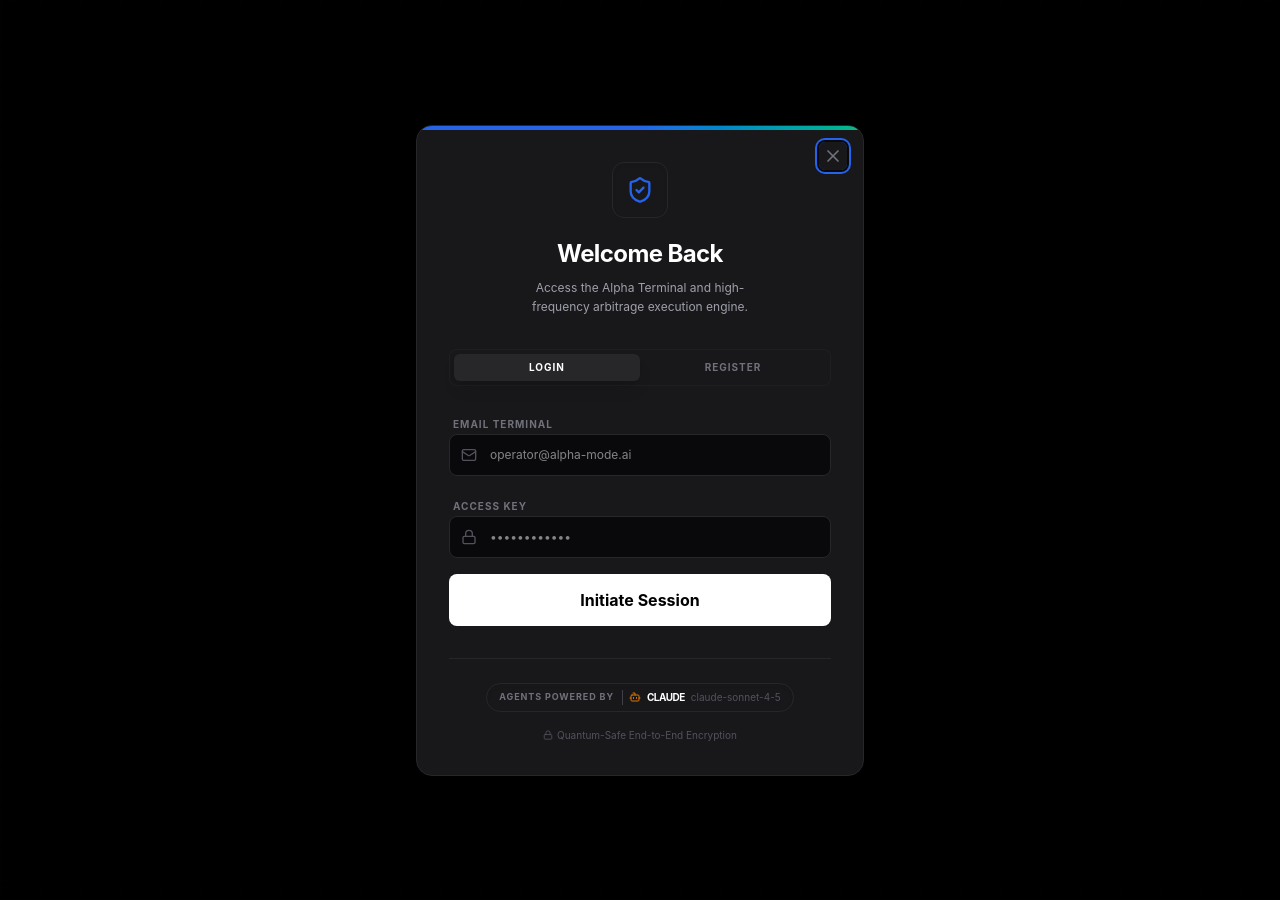
Test: AuthModal Integration › shows error message on 401/failure
The image size is (1280, 900).
Type "bad@example.com" into the field with placeholder "operator@alpha-mode.ai" at (640, 454), box [449,434,831,476]
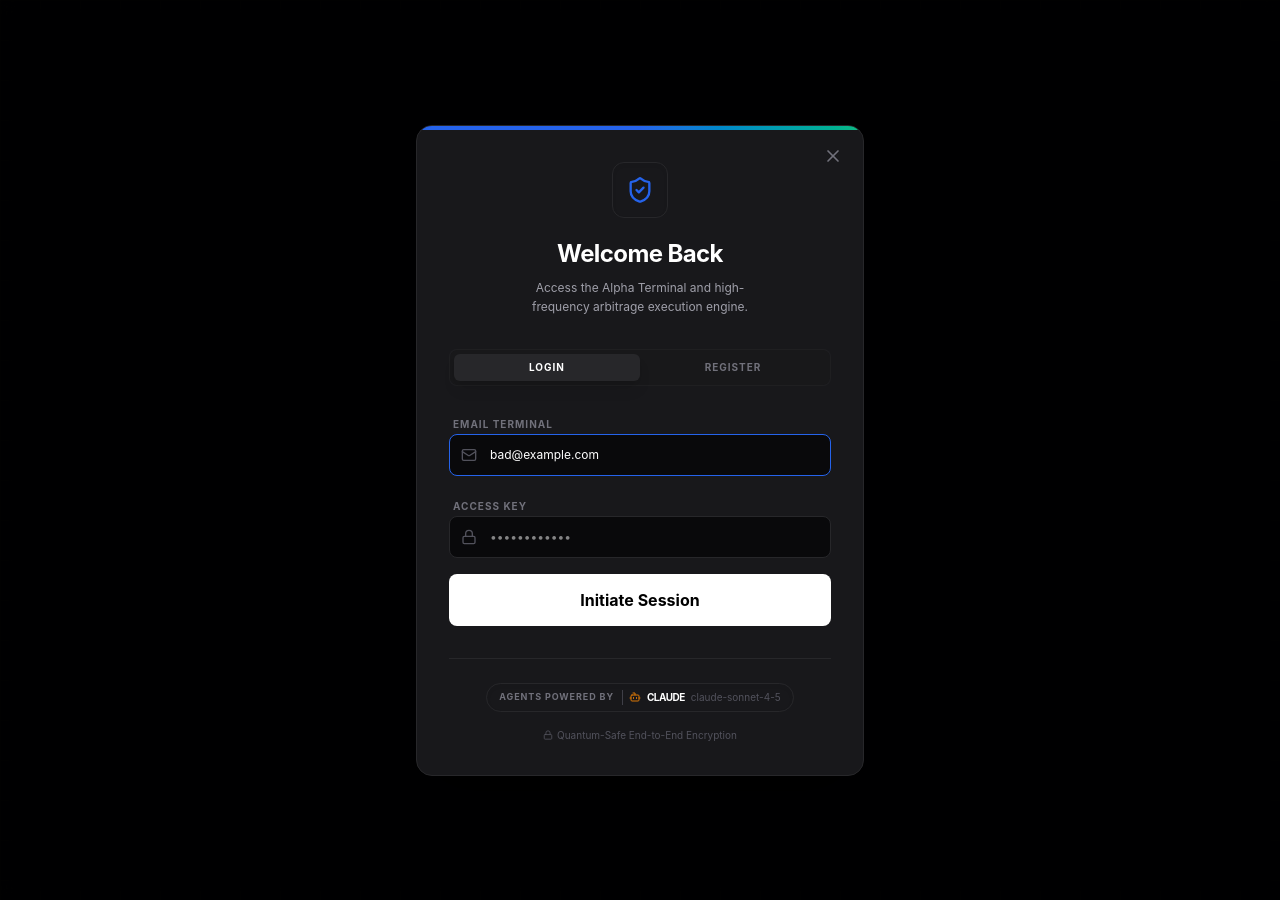
Type "wrongpassword" into the password field with placeholder "••••••••••••" at (640, 536), box [449,516,831,558]
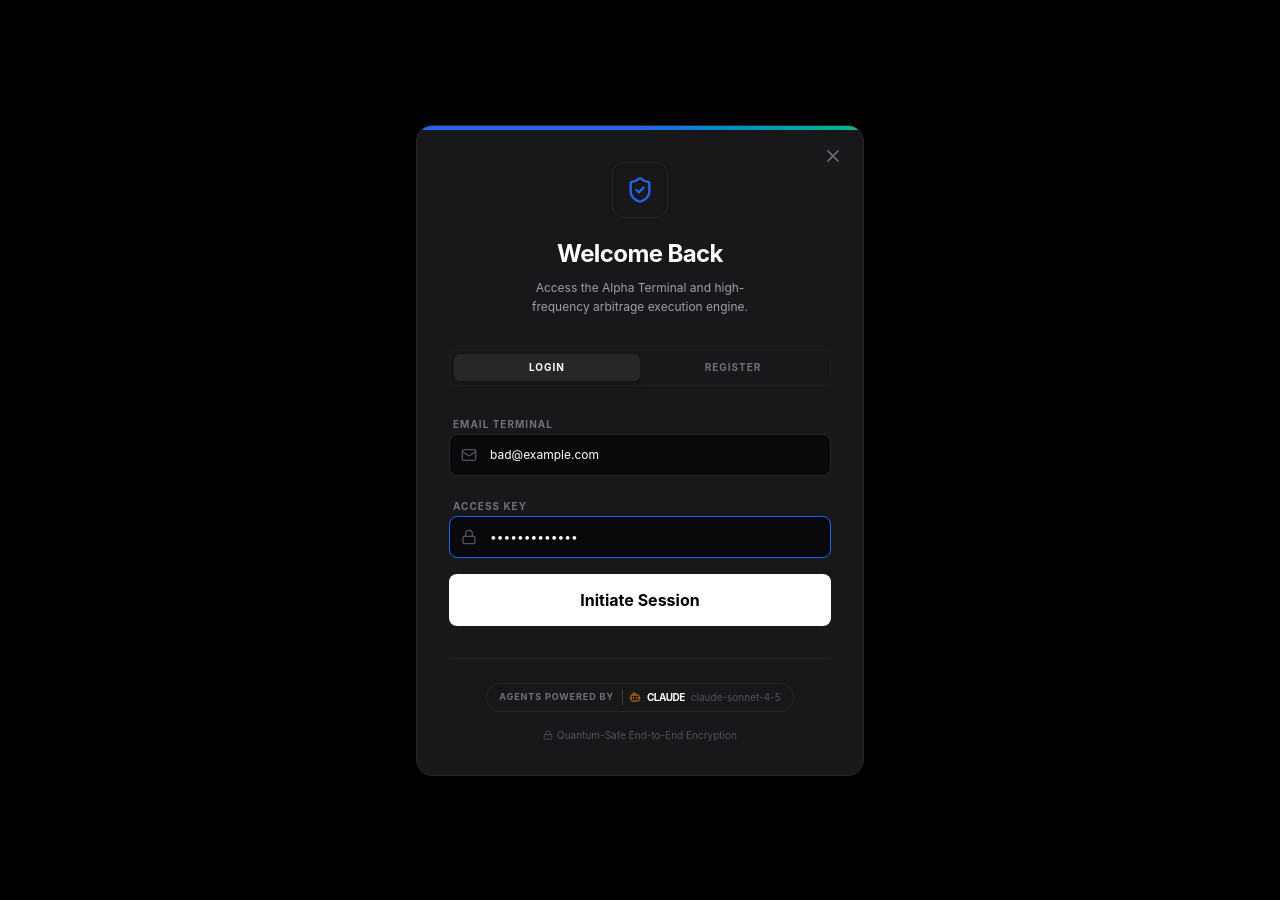
Click the button "Initiate Session" at (640, 600), box [449,574,831,626]
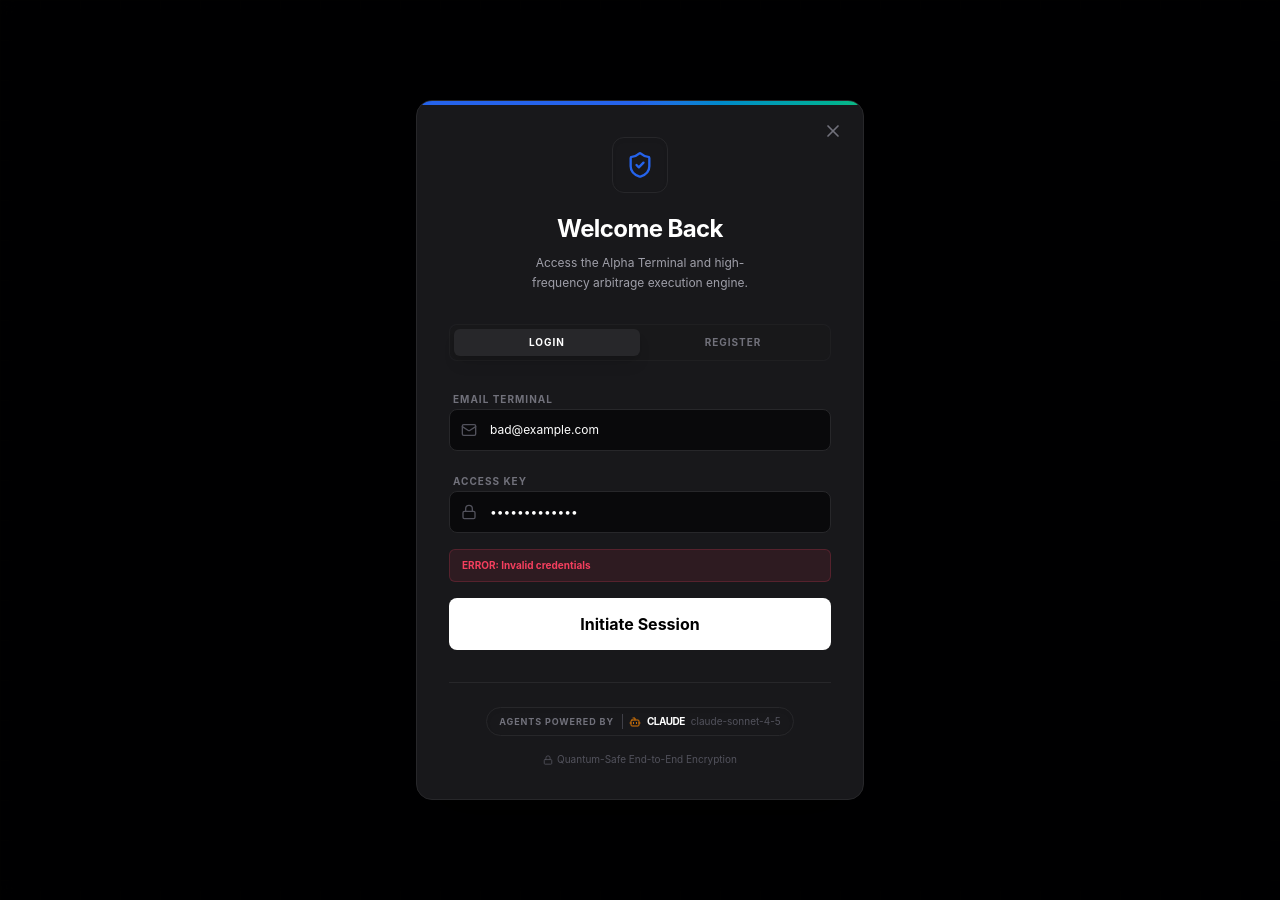
Expected: the text "ERROR: Invalid credentials" is shown, [449,549,831,582]
